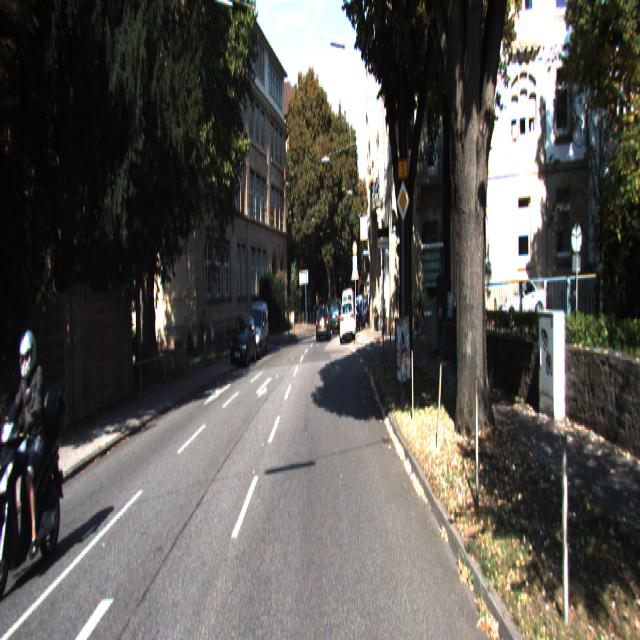Car: (0, 324, 77, 606), (496, 278, 543, 328), (228, 314, 258, 372), (244, 302, 270, 364), (340, 300, 355, 346), (315, 304, 331, 343)
